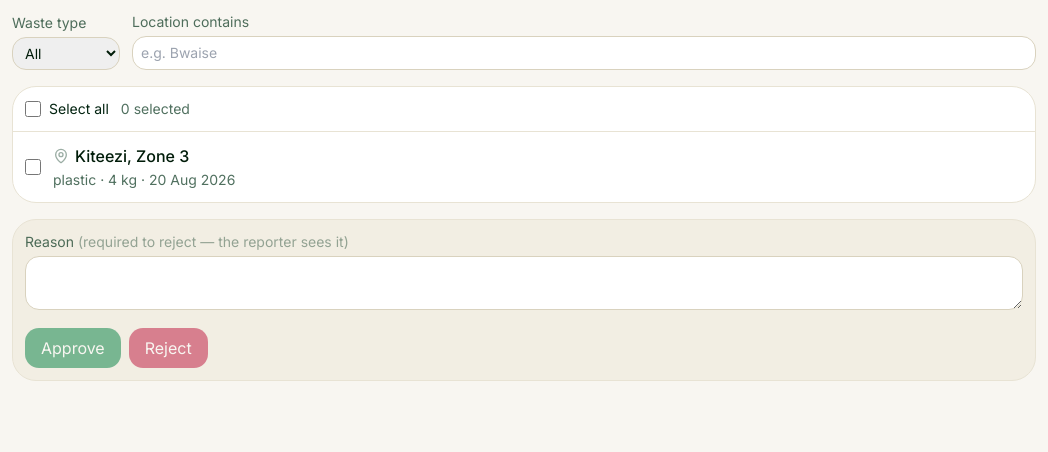
Test: SupervisorInboxView › rejecting › does not submit without a reason
Click the checkbox named "Select report 1": {"x": 33, "y": 167} [25,159,41,175]
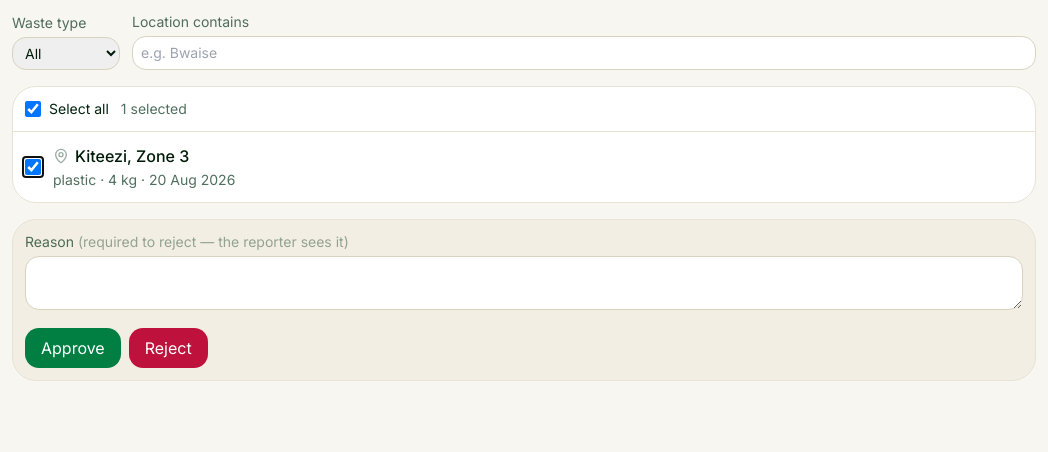
Click the button "Reject": {"x": 168, "y": 348} [129,328,208,368]
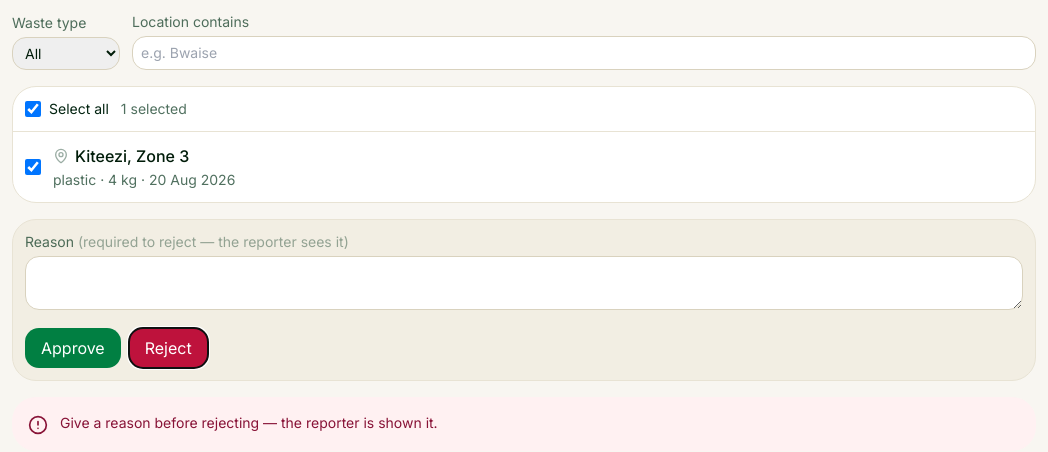
Now the message shows "reason", box [60,414,438,431]
